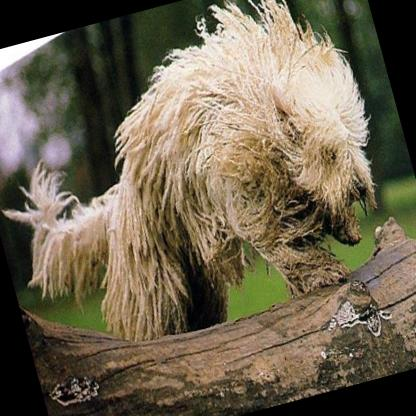komondor: (0, 0, 409, 365)
